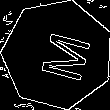M_W: (27, 26, 88, 83)
